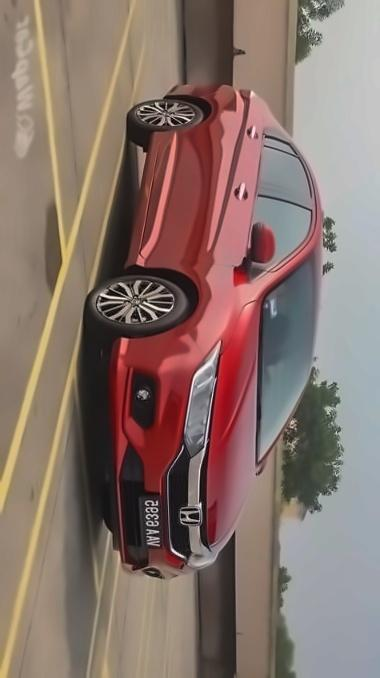Driver-s door - -F-R-: (138, 186, 318, 261)
Fender - -F-R-: (121, 260, 279, 355)
Fender - -R-R-: (196, 93, 268, 119)
Front bumper: (101, 328, 190, 586), (205, 296, 259, 558)
Headlight - -L-: (182, 537, 225, 572)
Headlight - -R-: (178, 333, 225, 463)
Passenger-s door - -R-R-: (147, 121, 321, 185)
Rear bumper: (152, 75, 215, 104)
Rear light - -R-: (236, 82, 263, 103)
Side bumper - -R-: (121, 120, 166, 283)
Side mirror - -R-: (239, 215, 280, 272)
